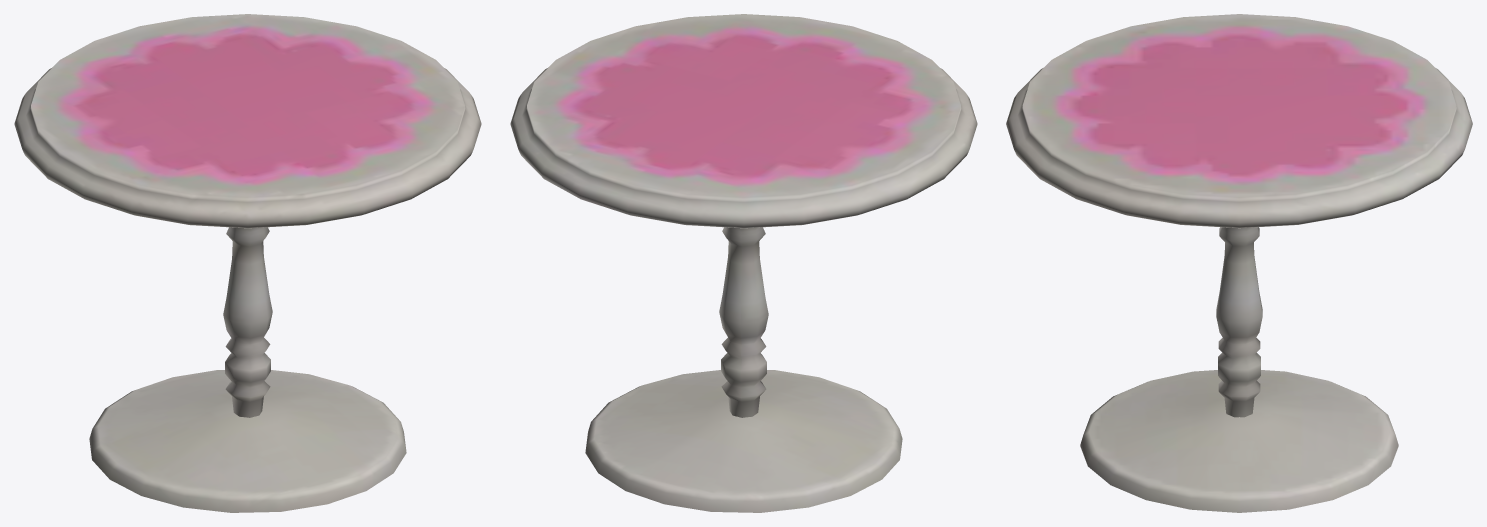
3 views of the same model, side by side, from view 1: azimuth 30°, elevation 25°; view 2: azimuth 150°, elevation 25°; view 3: azimuth 270°, elevation 25° (orthographic).
Size of the model in its own units: 9.59 by 7.7 by 9.59.
Materials: 1 (1 with a texture image).
